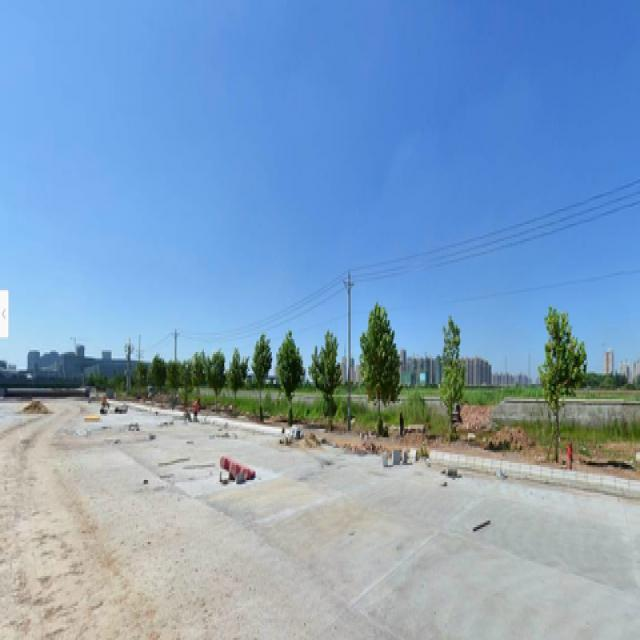meta: (360, 309, 401, 427), (544, 320, 575, 452), (442, 326, 466, 433), (309, 333, 339, 412), (280, 339, 300, 412), (253, 333, 267, 407)
